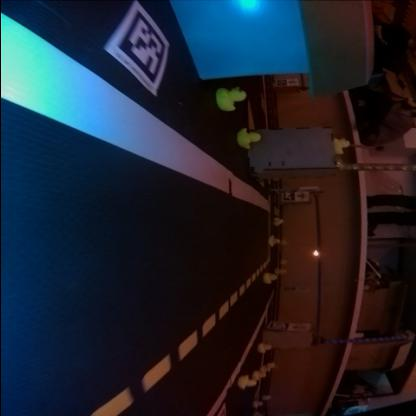Duckie: (216, 87, 246, 111), (238, 129, 260, 149), (334, 138, 350, 154), (238, 376, 256, 390), (258, 344, 272, 354), (269, 237, 280, 247), (266, 274, 276, 284), (276, 219, 284, 226)
Intersection sign: (296, 193, 308, 202)
QR code: (105, 3, 169, 96), (282, 194, 294, 201)
Signal sign: (289, 324, 308, 330)
Traffic light: (312, 251, 322, 257)
